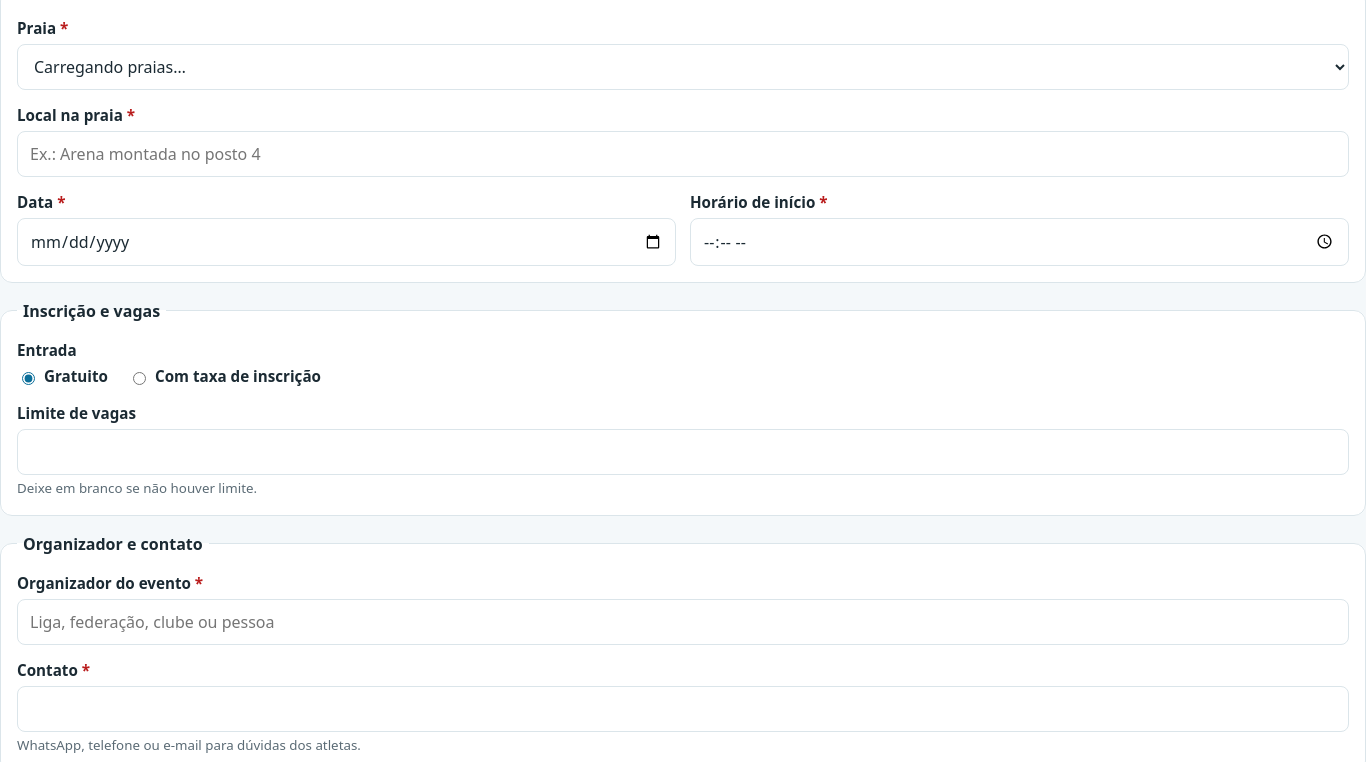
Test case: FormularioEvento › o campo de valor só aparece para evento pago
The width and height of the screenshot is (1366, 762).
(page scrolled)
Check: the field labelled "Valor da inscrição" is not shown
Click the radio button labelled "Com taxa de inscrição" at [140, 378], box [133,372,146,385]
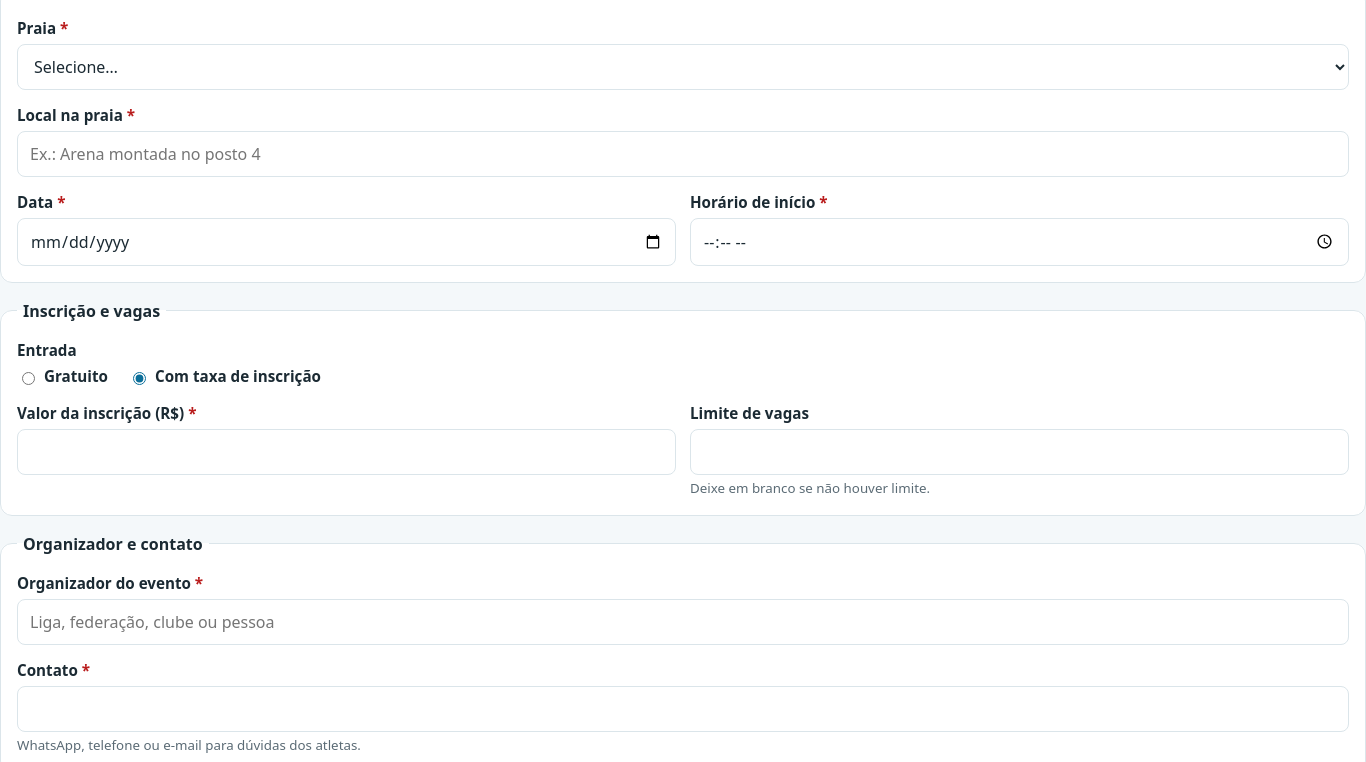
Check: the number field labelled "Valor da inscrição (R$) *" is shown, box [17,429,676,475]
